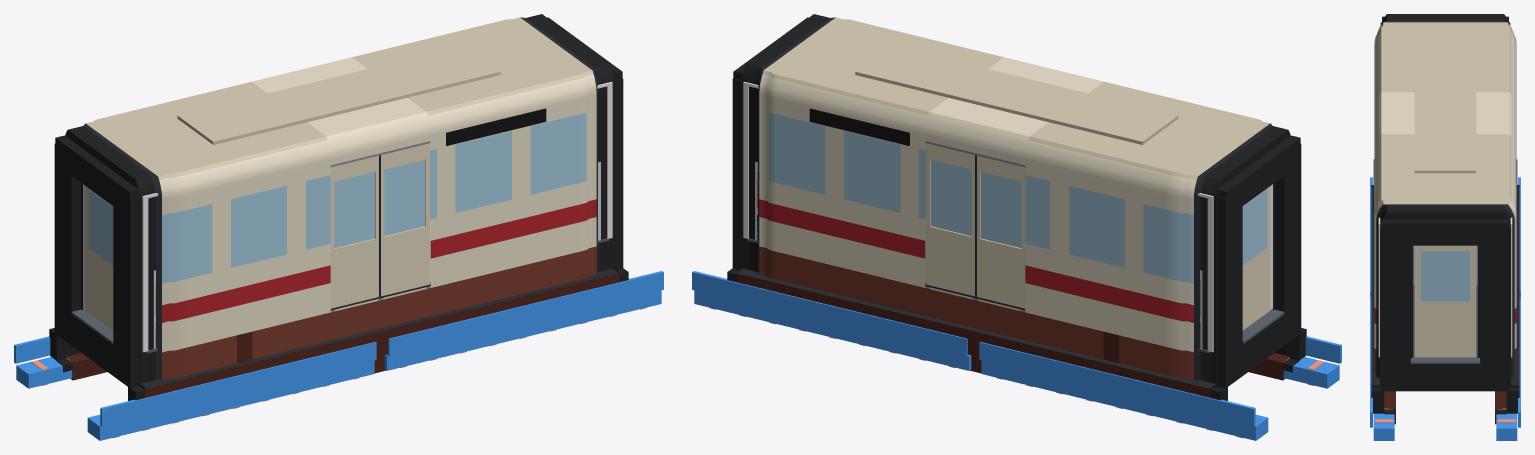
File: birmingham_car.obj
3 views of the same model, side by side, from view 1: azimuth 30°, elevation 25°; view 2: azimuth 150°, elevation 25°; view 3: azimuth 270°, elevation 25° (orthographic). The views are drawn at different scales.
Parts seen in each view (by area): view 1: SHELL, SHELL_diaphragm, SHELL_roof, BOGEY_REAR, BOGEY_FRONT, EXTERNAL_DOOR_4_CG_DR1_TOGGLE_TL_-0.74_X, EXTERNAL_DOOR_5_CG_DR1_TOGGLE_TL_0.74_X, CONNECTING_DOOR_1_CG_CR_TOGGLE_TL_0.98_Z, SHELL_end, SHELL_sign; view 2: SHELL, SHELL_diaphragm, SHELL_roof, BOGEY_REAR, BOGEY_FRONT, EXTERNAL_DOOR_7_CG_DL1_TOGGLE_TL_-0.74_X, EXTERNAL_DOOR_8_CG_DL1_TOGGLE_TL_0.74_X, CONNECTING_DOOR_1_CG_CR_TOGGLE_TL_0.98_Z, SHELL_end, SHELL_sign; view 3: SHELL, SHELL_diaphragm, SHELL_roof, CONNECTING_DOOR_2_CG_CF_TOGGLE_TL_0.98_Z, BOGEY_FRONT, SHELL_end, BOGEY_REAR, SHELL_gangway, SHELL_floor, SHELL_sign.
Part boxes in pixels (left/top/right/bottom): SHELL: left=65, top=14, right=619, bottom=397; SHELL_diaphragm: left=49, top=17, right=628, bottom=400; SHELL_roof: left=177, top=45, right=500, bottom=144; BOGEY_REAR: left=14, top=336, right=376, bottom=440; BOGEY_FRONT: left=384, top=271, right=663, bottom=370; EXTERNAL_DOOR_4_CG_DR1_TOGGLE_TL_-0.74_X: left=330, top=155, right=380, bottom=308; EXTERNAL_DOOR_5_CG_DR1_TOGGLE_TL_0.74_X: left=381, top=143, right=429, bottom=296; CONNECTING_DOOR_1_CG_CR_TOGGLE_TL_0.98_Z: left=85, top=186, right=113, bottom=330; SHELL_end: left=83, top=82, right=612, bottom=352; SHELL_sign: left=446, top=108, right=546, bottom=145; SHELL: left=736, top=14, right=1290, bottom=397; SHELL_diaphragm: left=727, top=17, right=1306, bottom=400; SHELL_roof: left=855, top=45, right=1178, bottom=144; BOGEY_REAR: left=979, top=336, right=1341, bottom=440; BOGEY_FRONT: left=692, top=271, right=971, bottom=370; EXTERNAL_DOOR_7_CG_DL1_TOGGLE_TL_-0.74_X: left=975, top=155, right=1025, bottom=308; EXTERNAL_DOOR_8_CG_DL1_TOGGLE_TL_0.74_X: left=926, top=143, right=974, bottom=296; CONNECTING_DOOR_1_CG_CR_TOGGLE_TL_0.98_Z: left=1242, top=186, right=1270, bottom=330; SHELL_end: left=743, top=82, right=1272, bottom=352; SHELL_sign: left=809, top=108, right=909, bottom=145; SHELL: left=1371, top=14, right=1519, bottom=424; SHELL_diaphragm: left=1371, top=16, right=1519, bottom=419; SHELL_roof: left=1414, top=50, right=1476, bottom=173; CONNECTING_DOOR_2_CG_CF_TOGGLE_TL_0.98_Z: left=1414, top=245, right=1476, bottom=357; BOGEY_FRONT: left=1370, top=297, right=1520, bottom=440; SHELL_end: left=1378, top=27, right=1512, bottom=357; BOGEY_REAR: left=1370, top=177, right=1520, bottom=297; SHELL_gangway: left=1411, top=355, right=1479, bottom=363; SHELL_floor: left=1413, top=246, right=1477, bottom=354; SHELL_sign: left=1373, top=159, right=1517, bottom=211.
Size of the model in its own units: 9 by 3.83 by 2.44.
Materials: 1 (1 with a texture image).
